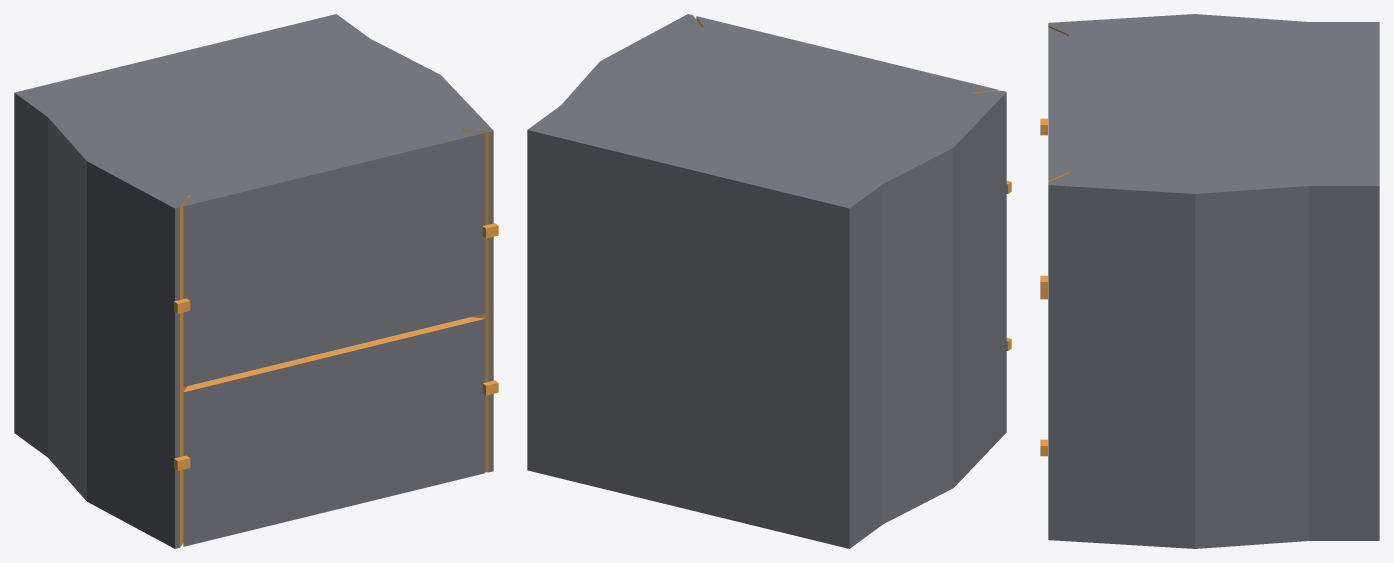
Rendered from panorama.glb.
The picture shows the model from 3 angles, left to right: view 1: azimuth 30°, elevation 25°; view 2: azimuth 150°, elevation 25°; view 3: azimuth 270°, elevation 25°; orthographic projection. The views are drawn at different scales.
Visible parts, largest first — view 1: shell, upper, lower; view 2: shell, upper; view 3: shell, upper.
Part boxes in pixels (box(x1,y1,x2,y2)): shell: box(14, 14, 493, 548); upper: box(183, 130, 485, 386); lower: box(183, 317, 485, 546); shell: box(527, 14, 1006, 548); upper: box(696, 16, 998, 93); shell: box(1048, 14, 1379, 548); upper: box(1048, 27, 1068, 182).
Size of the model in its own units: 2.26 by 2.08 by 1.8.
